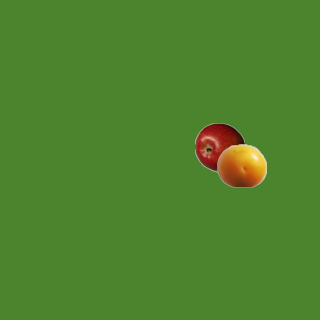Apple Braeburn: (194, 122, 244, 172)
Cherry Wax Yellow: (216, 140, 266, 190)
